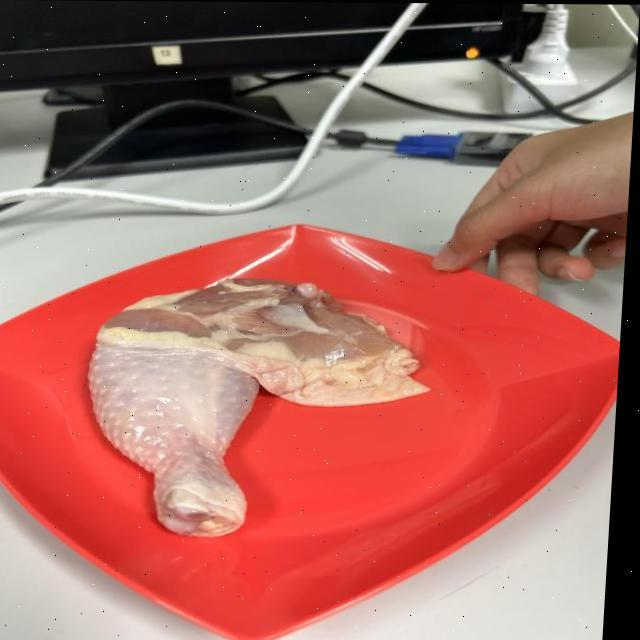quater: (80, 274, 437, 548)
